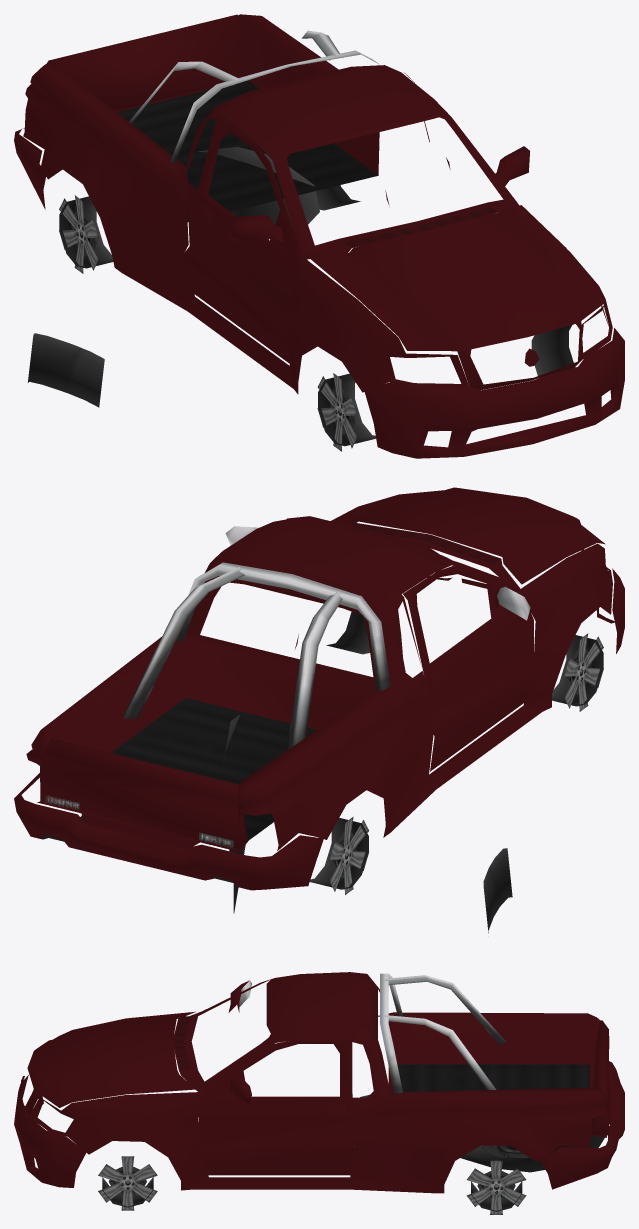
The model's file is car-HEVY_Car1.glb.
3 renders of one model, top to bottom at view 1: azimuth 30°, elevation 25°; view 2: azimuth 150°, elevation 25°; view 3: azimuth 270°, elevation 25°, orthographic. The views are drawn at different scales.
Visible parts, largest first — view 1: HEVY_Car1; view 2: HEVY_Car1; view 3: HEVY_Car1.
Part boxes in pixels (left/top/right/bottom): HEVY_Car1: left=14, top=14, right=624, bottom=458; HEVY_Car1: left=14, top=487, right=624, bottom=933; HEVY_Car1: left=14, top=972, right=624, bottom=1214.
Bounding box in the file's own units: 2.84 × 2 × 5.22.
Materials: 13 (13 with a texture image).
